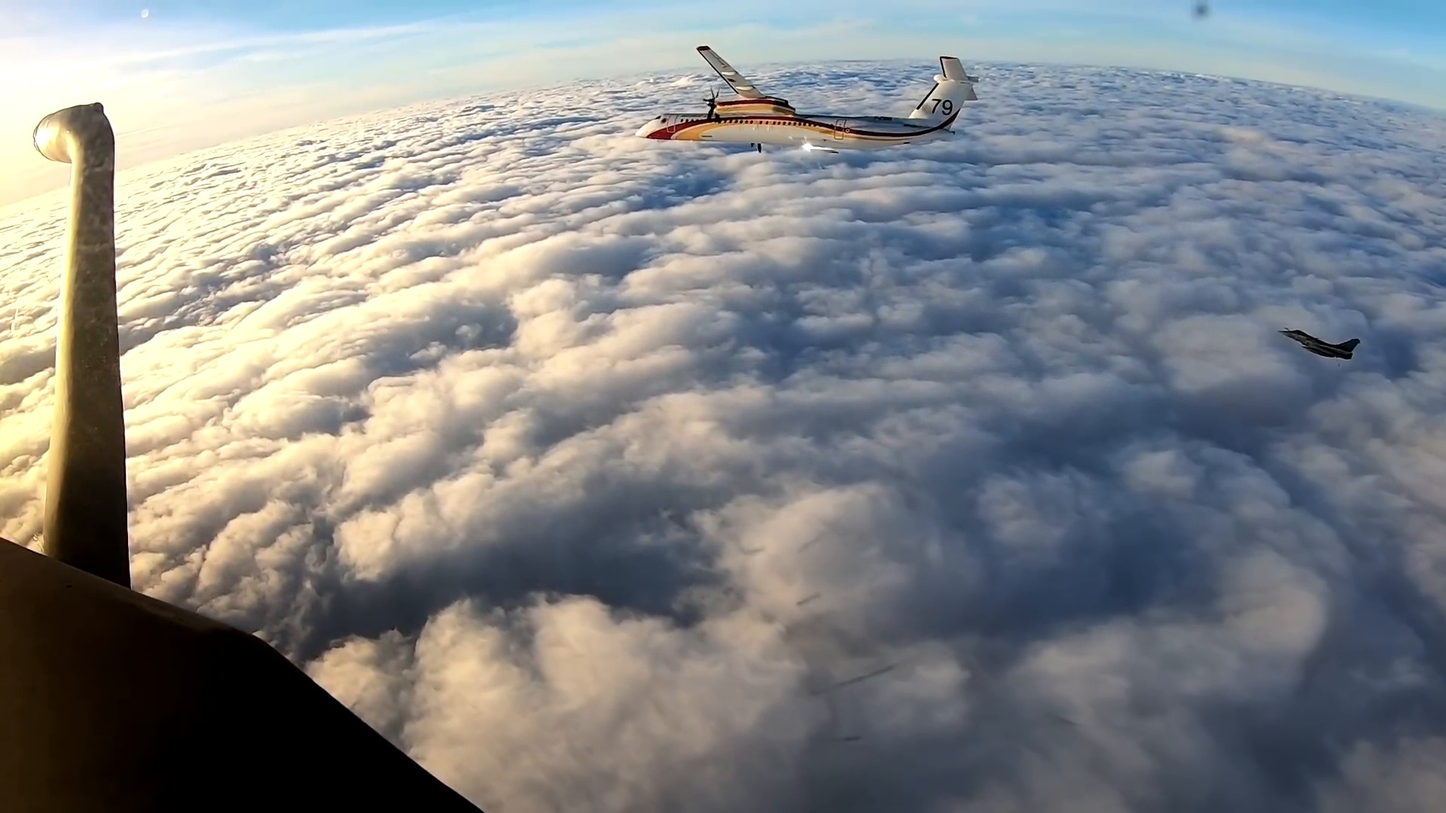Rafale: (1279, 327, 1361, 361)
